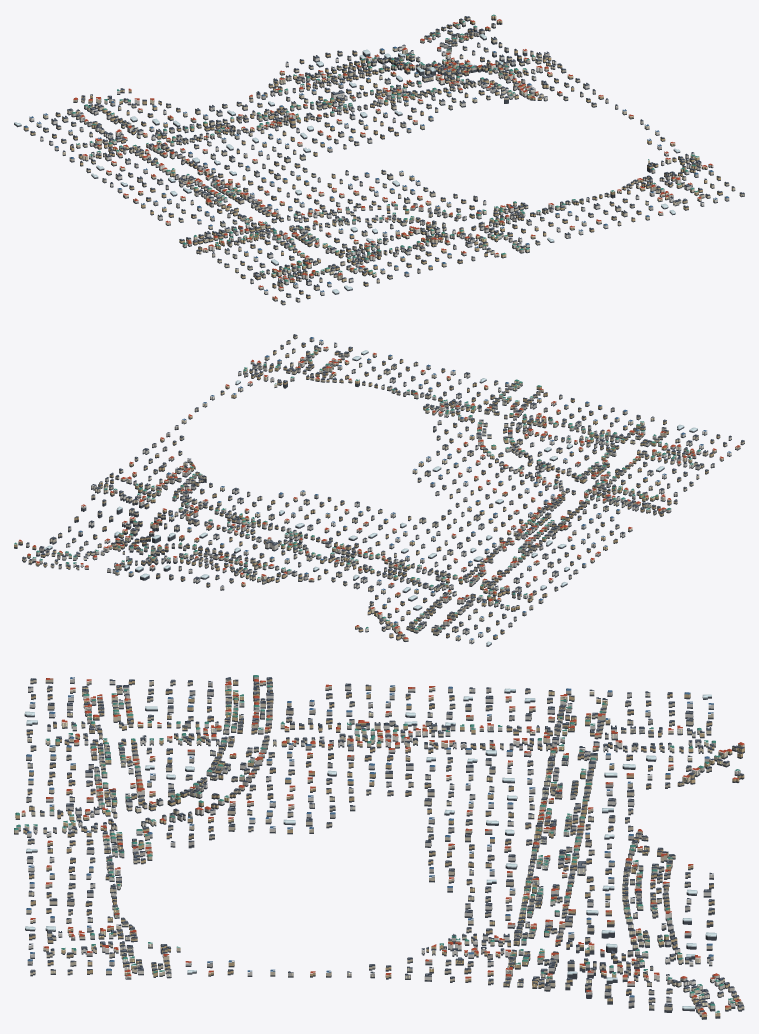
The model's file is osm_buildings_T_W01_S03.glb.
The picture shows the model from 3 angles, top to bottom: view 1: azimuth 30°, elevation 25°; view 2: azimuth 150°, elevation 25°; view 3: azimuth 270°, elevation 25°; orthographic projection. The views are drawn at different scales.
Visible parts, largest first — view 1: OSM_T_W01_S03_foundation, OSM_T_W01_S03_wall_cream_stucco, OSM_T_W01_S03_roof_mansard_slate, OSM_T_W01_S03_wall_french_ochre, OSM_T_W01_S03_wall_warm_white, OSM_T_W01_S03_roof_mansard_deck, OSM_T_W01_S03_wall_pastel_sand, OSM_T_W01_S03_roof_terracotta, OSM_T_W01_S03_roof_mint_metal, OSM_T_W01_S03_greenhouse_blend, OSM_T_W01_S03_roof_alpine_blue, OSM_T_W01_S03_balcony_railing; view 2: OSM_T_W01_S03_foundation, OSM_T_W01_S03_wall_cream_stucco, OSM_T_W01_S03_roof_mansard_slate, OSM_T_W01_S03_wall_french_ochre, OSM_T_W01_S03_wall_warm_white, OSM_T_W01_S03_wall_pastel_sand, OSM_T_W01_S03_roof_mansard_deck, OSM_T_W01_S03_roof_terracotta, OSM_T_W01_S03_roof_mint_metal, OSM_T_W01_S03_greenhouse_blend, OSM_T_W01_S03_roof_alpine_blue, OSM_T_W01_S03_balcony_railing; view 3: OSM_T_W01_S03_foundation, OSM_T_W01_S03_roof_mansard_slate, OSM_T_W01_S03_wall_cream_stucco, OSM_T_W01_S03_wall_french_ochre, OSM_T_W01_S03_wall_warm_white, OSM_T_W01_S03_roof_mansard_deck, OSM_T_W01_S03_wall_pastel_sand, OSM_T_W01_S03_roof_terracotta, OSM_T_W01_S03_roof_mint_metal, OSM_T_W01_S03_greenhouse_blend, OSM_T_W01_S03_roof_alpine_blue, OSM_T_W01_S03_balcony_railing.
Boxes of the visible parts, <box> form: OSM_T_W01_S03_foundation: <box>14,18,744,305</box>; OSM_T_W01_S03_wall_cream_stucco: <box>43,17,744,304</box>; OSM_T_W01_S03_roof_mansard_slate: <box>30,16,744,302</box>; OSM_T_W01_S03_wall_french_ochre: <box>23,16,722,297</box>; OSM_T_W01_S03_wall_warm_white: <box>29,21,717,301</box>; OSM_T_W01_S03_roof_mansard_deck: <box>31,16,743,301</box>; OSM_T_W01_S03_wall_pastel_sand: <box>54,27,729,280</box>; OSM_T_W01_S03_roof_terracotta: <box>73,19,712,298</box>; OSM_T_W01_S03_roof_mint_metal: <box>71,14,699,281</box>; OSM_T_W01_S03_greenhouse_blend: <box>14,34,680,293</box>; OSM_T_W01_S03_roof_alpine_blue: <box>24,46,728,292</box>; OSM_T_W01_S03_balcony_railing: <box>32,24,744,296</box>; OSM_T_W01_S03_foundation: <box>14,337,744,646</box>; OSM_T_W01_S03_wall_cream_stucco: <box>22,335,744,640</box>; OSM_T_W01_S03_roof_mansard_slate: <box>22,334,744,636</box>; OSM_T_W01_S03_wall_french_ochre: <box>14,343,720,639</box>; OSM_T_W01_S03_wall_warm_white: <box>26,341,731,642</box>; OSM_T_W01_S03_wall_pastel_sand: <box>36,338,696,632</box>; OSM_T_W01_S03_roof_mansard_deck: <box>23,334,743,635</box>; OSM_T_W01_S03_roof_terracotta: <box>18,346,739,639</box>; OSM_T_W01_S03_roof_mint_metal: <box>14,350,700,629</box>; OSM_T_W01_S03_greenhouse_blend: <box>44,350,697,645</box>; OSM_T_W01_S03_roof_alpine_blue: <box>78,337,731,640</box>; OSM_T_W01_S03_balcony_railing: <box>19,345,739,631</box>; OSM_T_W01_S03_foundation: <box>14,680,744,1019</box>; OSM_T_W01_S03_roof_mansard_slate: <box>23,677,744,1011</box>; OSM_T_W01_S03_wall_cream_stucco: <box>14,678,744,1010</box>; OSM_T_W01_S03_wall_french_ochre: <box>15,679,744,1017</box>; OSM_T_W01_S03_wall_warm_white: <box>27,678,740,1015</box>; OSM_T_W01_S03_roof_mansard_deck: <box>24,677,743,1006</box>; OSM_T_W01_S03_wall_pastel_sand: <box>16,676,734,1010</box>; OSM_T_W01_S03_roof_terracotta: <box>21,678,744,1014</box>; OSM_T_W01_S03_roof_mint_metal: <box>14,675,740,1012</box>; OSM_T_W01_S03_greenhouse_blend: <box>24,688,716,1009</box>; OSM_T_W01_S03_roof_alpine_blue: <box>26,677,713,997</box>; OSM_T_W01_S03_balcony_railing: <box>24,680,740,1011</box>.
Bounding box in the file's own units: 1975 × 141 × 1978.
